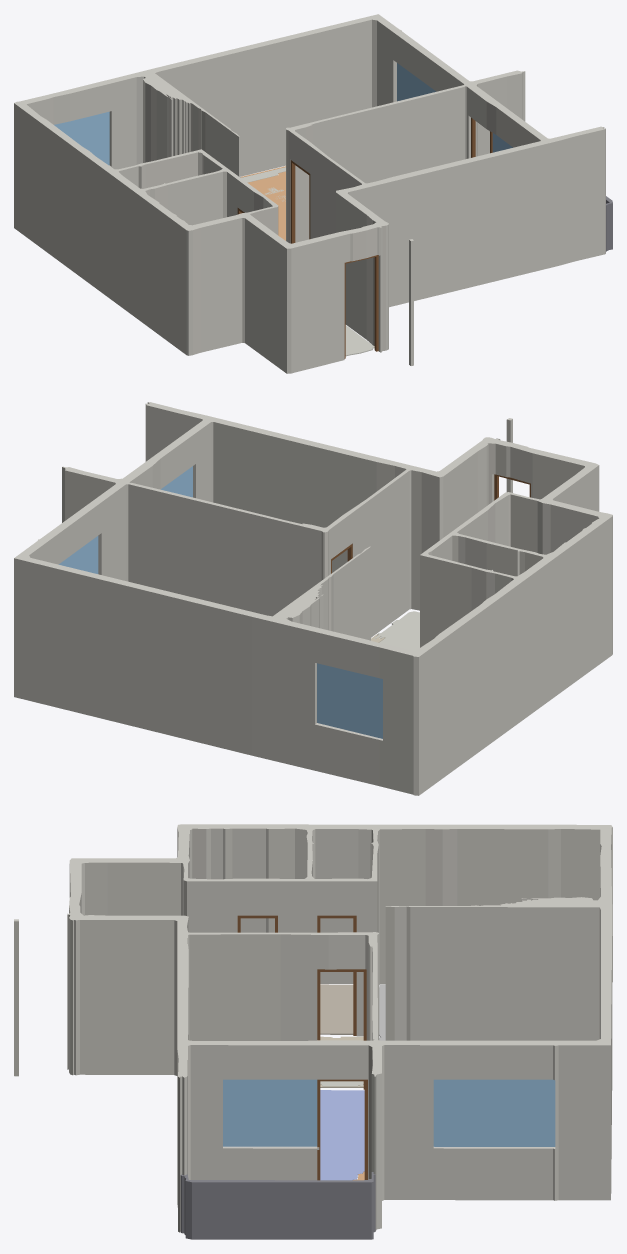
3 views of the same model, one above another, from view 1: azimuth 30°, elevation 25°; view 2: azimuth 150°, elevation 25°; view 3: azimuth 270°, elevation 25° (orthographic). The views are drawn at different scales.
Visible parts, largest first — view 1: walls, window_5, floor_3_Living_Room, window_6, door_4, door_1, floor_11_Undefined; view 2: walls, window_5, floor_11_Undefined, window_6, window_7; view 3: walls, railings, window_6, window_7, floor_4_Bed_Room, floor_8_Storage, door_0, door_1.
Part boxes in pixels (x1,y1,x2,y2): walls: (14,14,605,373); window_5: (54,111,109,165); floor_3_Living_Room: (240,166,285,240); window_6: (397,63,436,101); door_4: (344,255,378,358); door_1: (290,160,310,243); floor_11_Undefined: (345,325,374,356); walls: (14,402,612,795); window_5: (317,663,382,738); floor_11_Undefined: (374,611,419,651); window_6: (59,536,98,573); window_7: (161,466,192,497); walls: (14,824,612,1232); railings: (180,1172,375,1239); window_6: (433,1079,555,1146); window_7: (223,1079,317,1146); floor_4_Bed_Room: (320,1090,364,1180); floor_8_Storage: (320,984,353,1034); door_0: (317,1079,367,1180); door_1: (317,969,366,1089).
Size of the model in its own units: 9.73 by 2.72 by 9.46.
